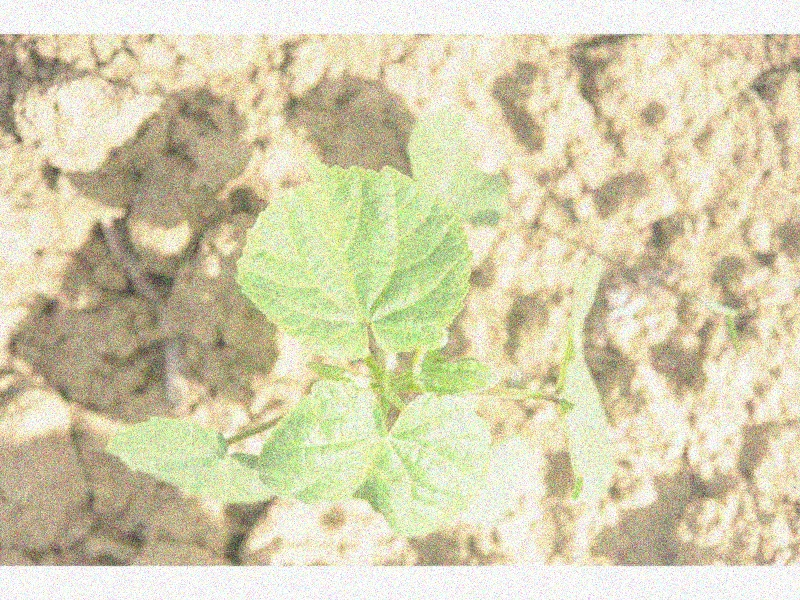velvet: (104, 108, 619, 529)
